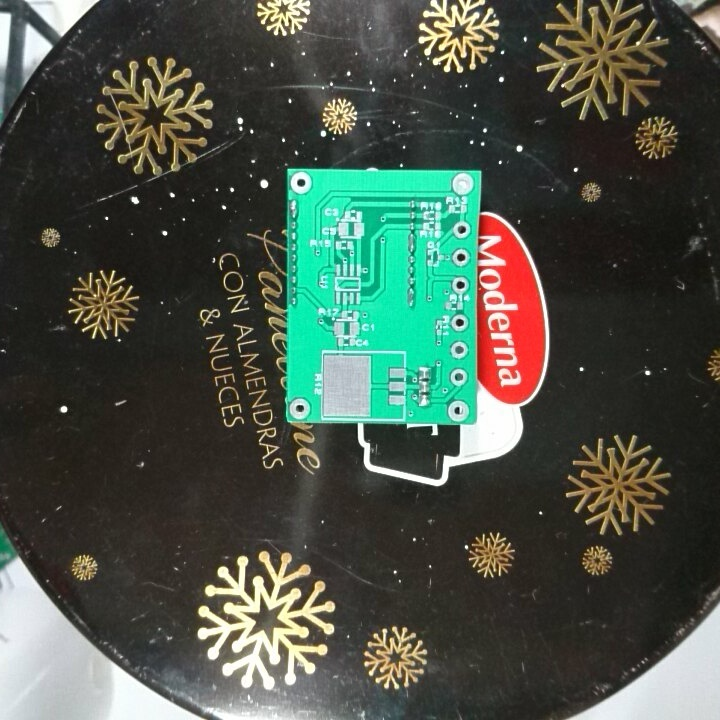F: (287, 394, 313, 422), (450, 172, 477, 197), (287, 169, 314, 193), (445, 399, 470, 423), (449, 366, 471, 389), (448, 339, 472, 360), (451, 218, 472, 241), (449, 275, 471, 296), (448, 313, 470, 334), (450, 248, 471, 269)
P: (405, 229, 419, 253), (288, 197, 301, 220), (405, 286, 418, 309)
